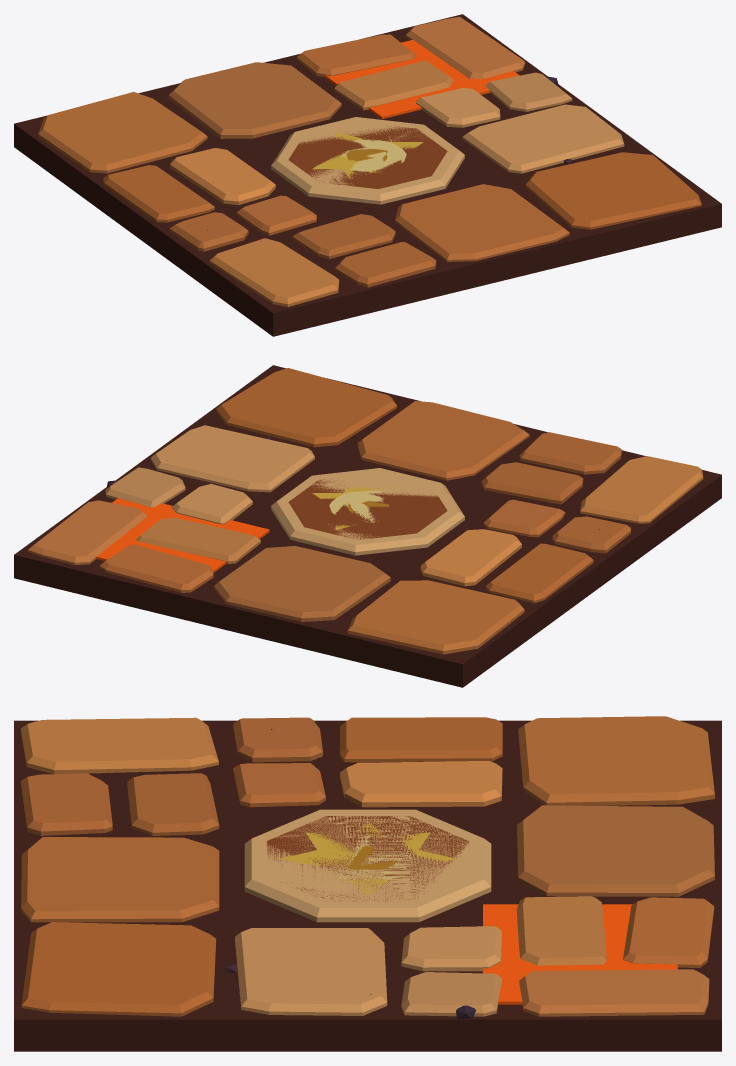
Rendered from floor_b.fbx.
The picture shows the model from 3 angles, top to bottom: view 1: azimuth 30°, elevation 25°; view 2: azimuth 150°, elevation 25°; view 3: azimuth 270°, elevation 25°; orthographic projection. The views are drawn at different scales.
Visible parts, largest first — view 1: floor_b; view 2: floor_b; view 3: floor_b.
Boxes of the visible parts, x1,y1,x2,y2 form: floor_b: (14, 14, 721, 336); floor_b: (14, 365, 721, 687); floor_b: (14, 716, 721, 1051).
Size of the model in its own units: 4 by 0.27 by 4.
